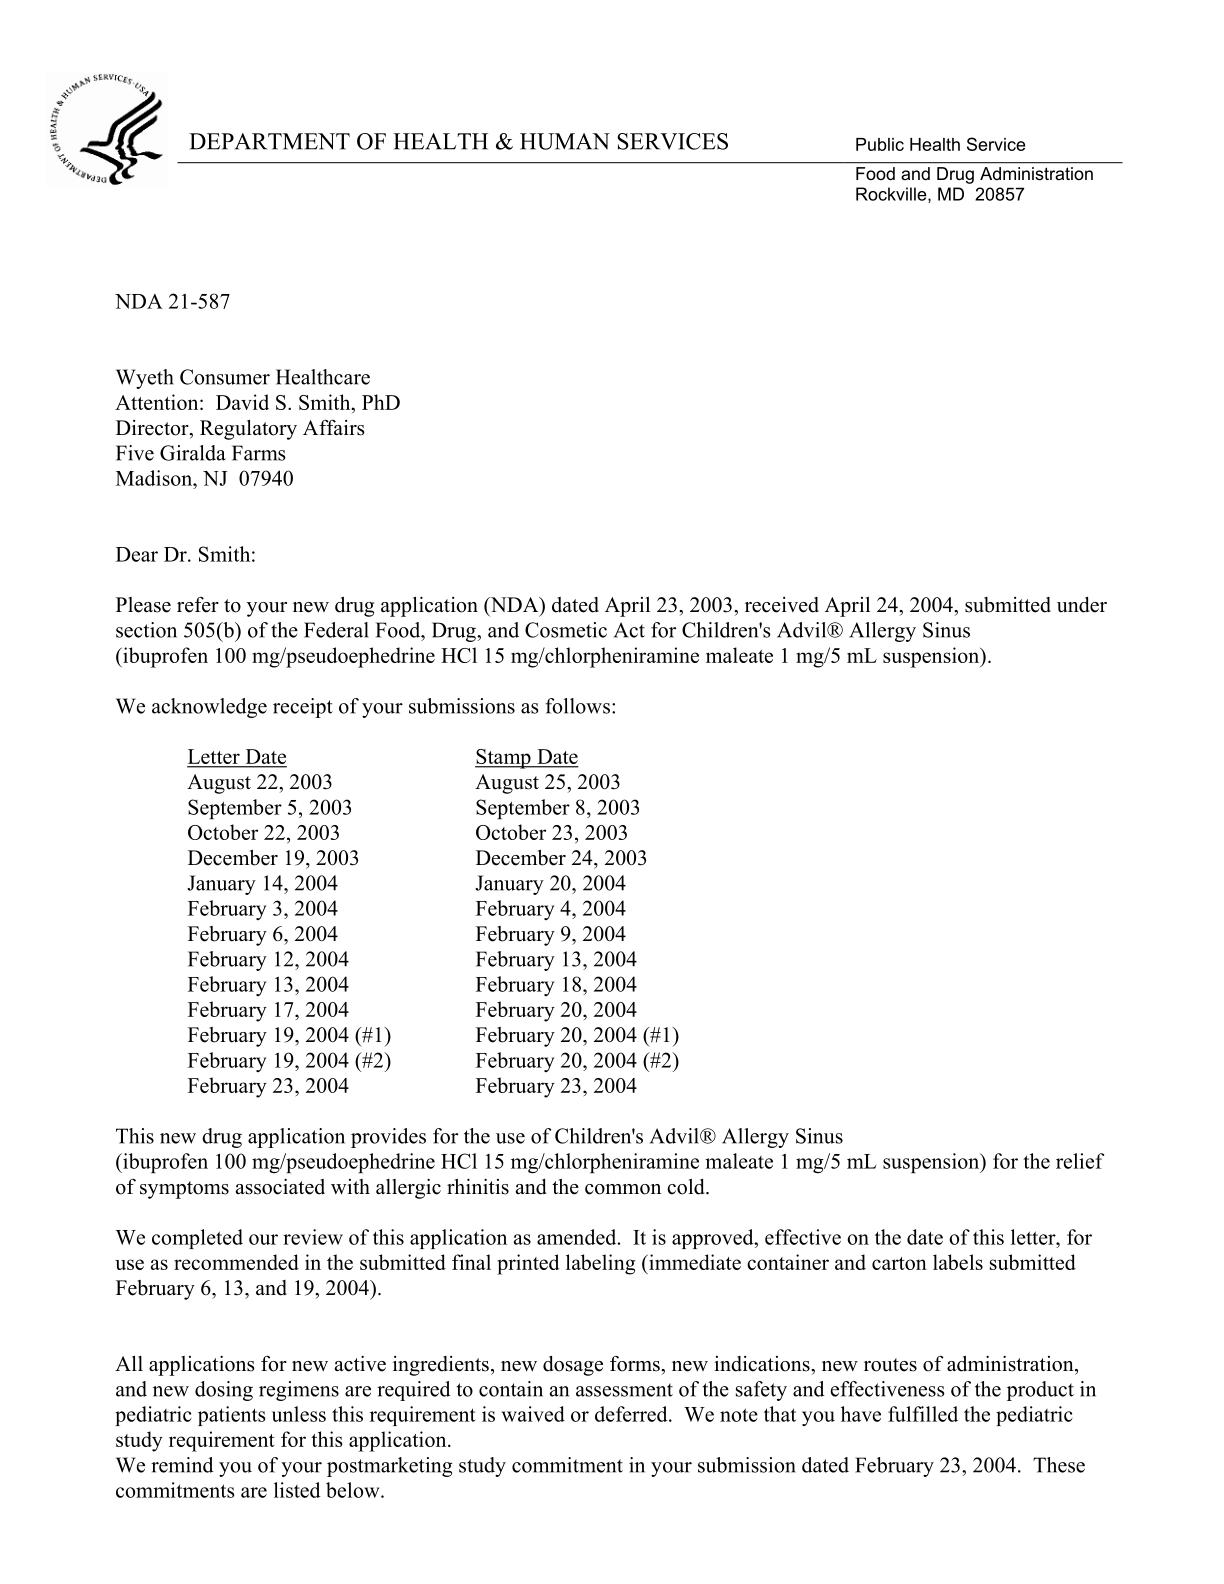nolines: (183, 744, 687, 1102)
